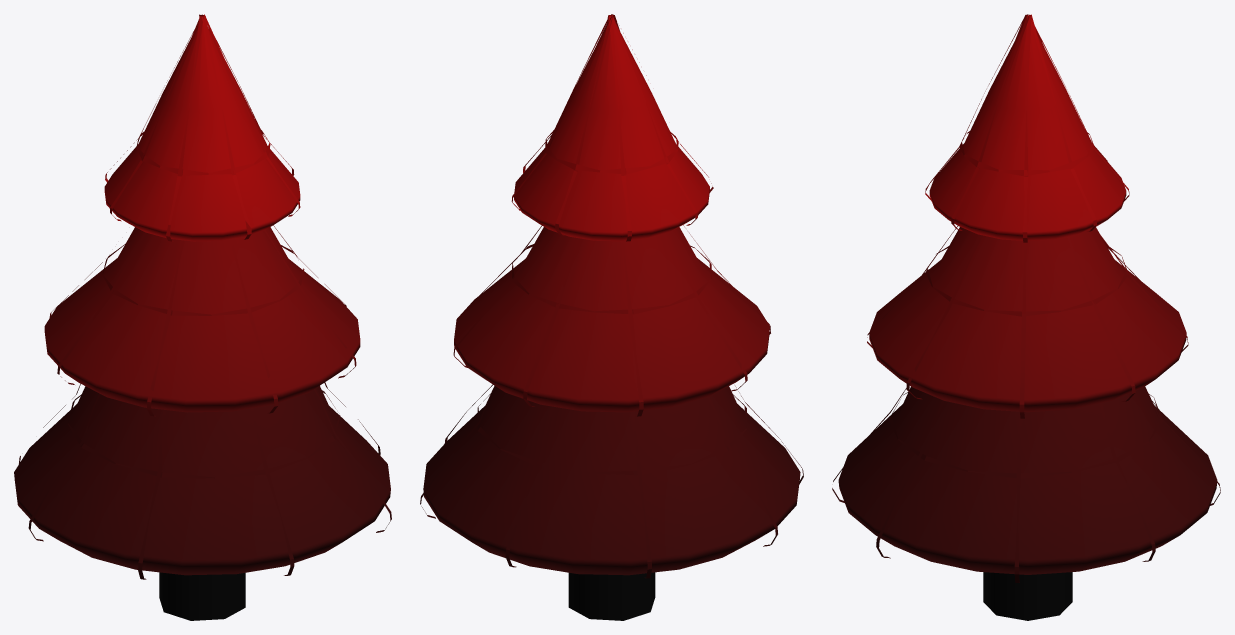
The model's file is Pine_01.fbx.
The picture shows the model from 3 angles, left to right: view 1: azimuth 30°, elevation 25°; view 2: azimuth 150°, elevation 25°; view 3: azimuth 270°, elevation 25°; orthographic projection.
Visible parts, largest first — view 1: Pine_01, Pine_01_Line; view 2: Pine_01, Pine_01_Line; view 3: Pine_01, Pine_01_Line.
Boxes of the visible parts, <box> form: Pine_01: <box>14,23,390,620</box>; Pine_01_Line: <box>19,14,391,579</box>; Pine_01: <box>423,24,800,620</box>; Pine_01_Line: <box>420,14,803,578</box>; Pine_01: <box>838,24,1217,620</box>; Pine_01_Line: <box>832,14,1220,582</box>.
Size of the model in its own units: 399 by 656 by 394.
